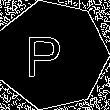P_N: (33, 30, 71, 80)
